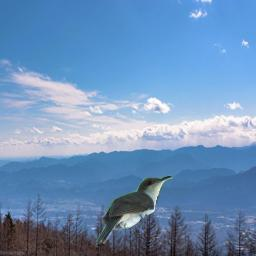Cuckoo: (96, 175, 174, 245)
